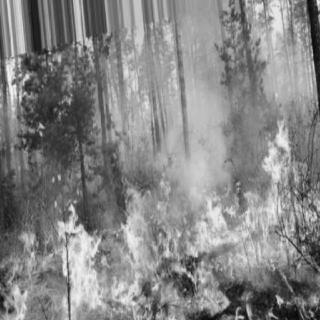Fire: (18, 130, 314, 312)
